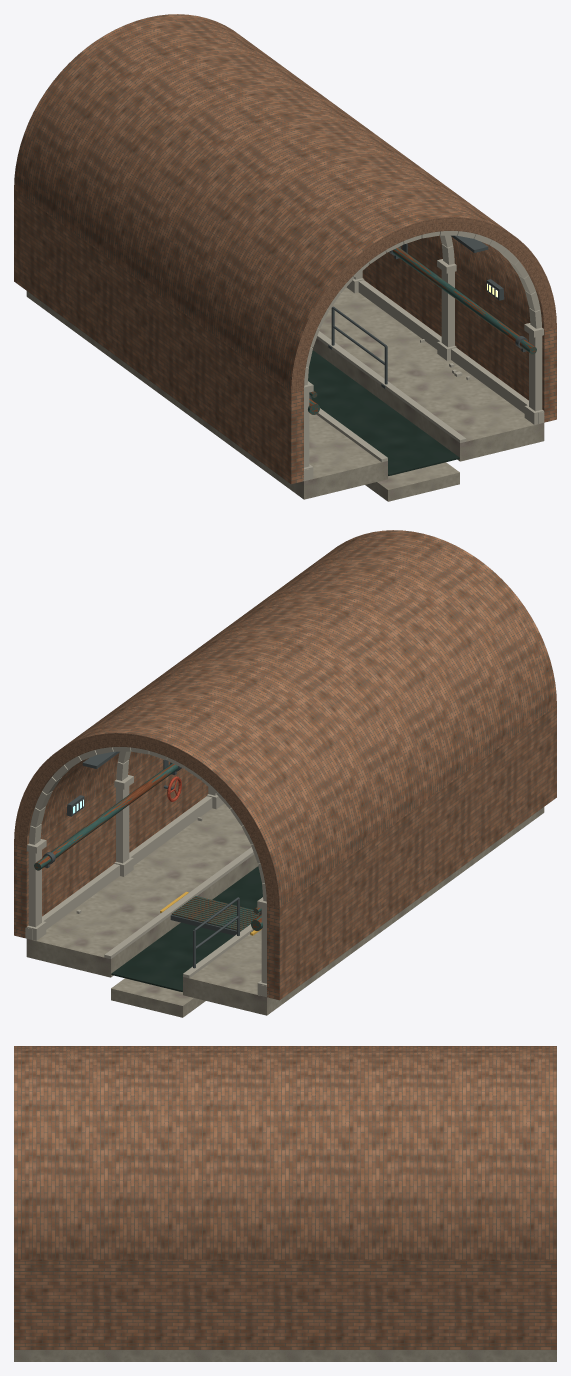
Rendered from 01_Brick_Sewer_Passage.glb.
The picture shows the model from 3 angles, top to bottom: view 1: azimuth 30°, elevation 25°; view 2: azimuth 150°, elevation 25°; view 3: azimuth 270°, elevation 25°; orthographic projection. The views are drawn at different scales.
Parts seen in each view (by area): view 1: ROOF_Vault, Walls_Left, Floor_Right, Walls_Right, WATER_Channel, Floor_Left, Trim_Stone_Arch_Ribs, Trim_Wall_Footing, Trim_Channel_Coping, Floor_Channel_Bed, Pipes_Return, Safety_Handrails; view 2: ROOF_Vault, Walls_Left, Floor_Right, Walls_Right, Floor_Left, Trim_Stone_Arch_Ribs, WATER_Channel, Trim_Wall_Footing, Floor_Channel_Bed, Trim_Channel_Coping, Bridge_Tread_Slats, Pipes_Return; view 3: ROOF_Vault, Walls_Right, Floor_Right.
Boxes of the visible parts, bbox=[...] form: ROOF_Vault: bbox=[14, 14, 556, 392]; Walls_Left: bbox=[14, 189, 303, 484]; Floor_Right: bbox=[312, 287, 544, 461]; Walls_Right: bbox=[362, 239, 556, 422]; WATER_Channel: bbox=[308, 350, 459, 475]; Floor_Left: bbox=[26, 291, 387, 499]; Trim_Stone_Arch_Ribs: bbox=[304, 231, 543, 479]; Trim_Wall_Footing: bbox=[302, 280, 544, 481]; Trim_Channel_Coping: bbox=[316, 331, 466, 462]; Floor_Channel_Bed: bbox=[365, 462, 459, 501]; Pipes_Return: bbox=[392, 247, 536, 354]; Safety_Handrails: bbox=[331, 306, 387, 384]; ROOF_Vault: bbox=[14, 530, 556, 908]; Walls_Left: bbox=[267, 705, 556, 1000]; Floor_Right: bbox=[26, 803, 258, 977]; Walls_Right: bbox=[14, 755, 208, 937]; Floor_Left: bbox=[183, 807, 544, 1015]; Trim_Stone_Arch_Ribs: bbox=[27, 747, 266, 995]; WATER_Channel: bbox=[111, 866, 262, 991]; Trim_Wall_Footing: bbox=[25, 796, 268, 997]; Floor_Channel_Bed: bbox=[111, 978, 205, 1017]; Trim_Channel_Coping: bbox=[104, 847, 253, 978]; Bridge_Tread_Slats: bbox=[171, 896, 260, 933]; Pipes_Return: bbox=[34, 763, 178, 870]; ROOF_Vault: bbox=[14, 1046, 556, 1259]; Walls_Right: bbox=[14, 1259, 556, 1349]; Floor_Right: bbox=[14, 1350, 556, 1361].
Size of the model in its own units: 6.64 by 6.5 by 12.
11 materials, 4 textured.
